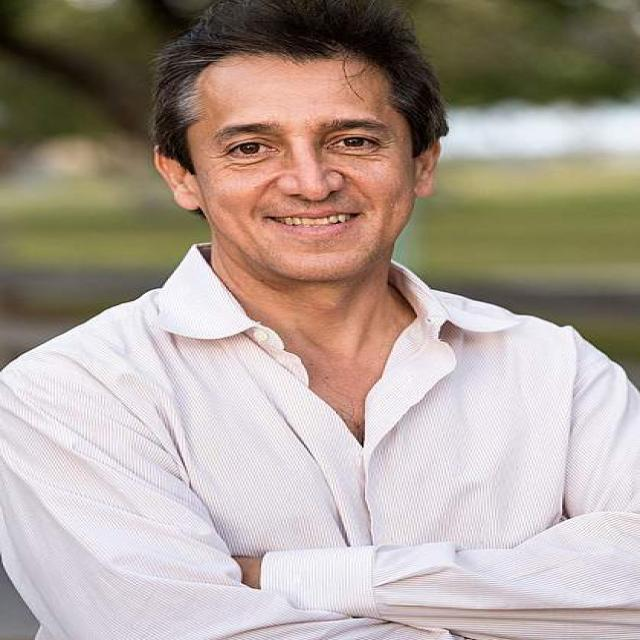human: (1, 0, 640, 639)
